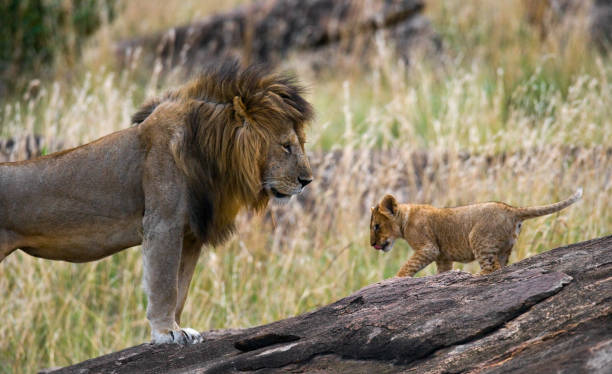lion: (113, 37, 336, 282)
